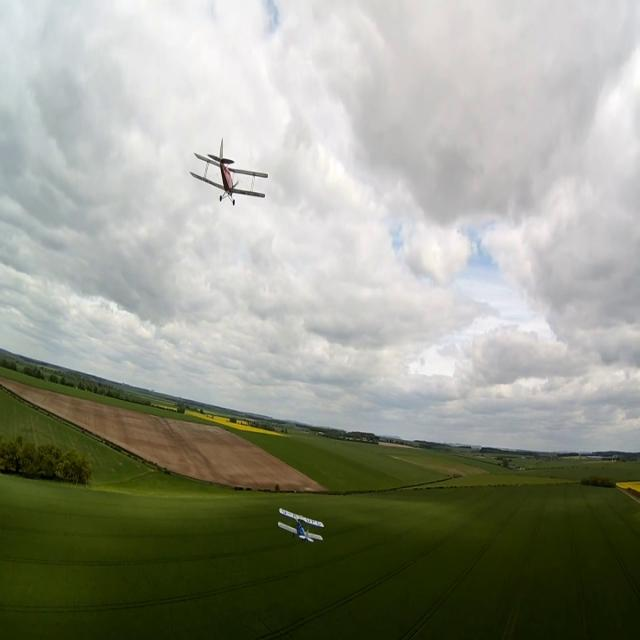iha: (278, 506, 324, 545), (221, 169, 236, 174)
